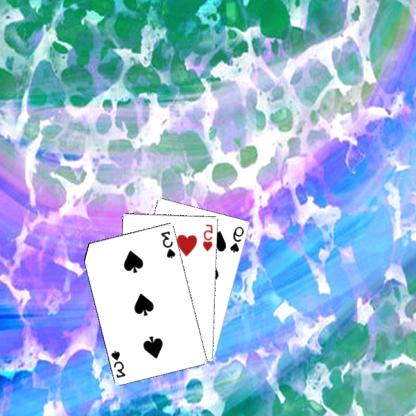3S: (110, 347, 128, 379), (160, 228, 178, 259)
5H: (203, 221, 217, 252)
9S: (229, 224, 247, 254)
